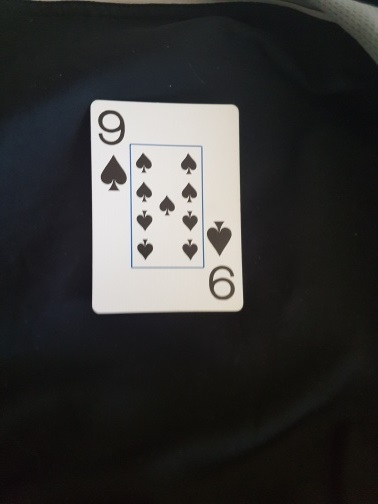nine: (87, 99, 245, 314)
